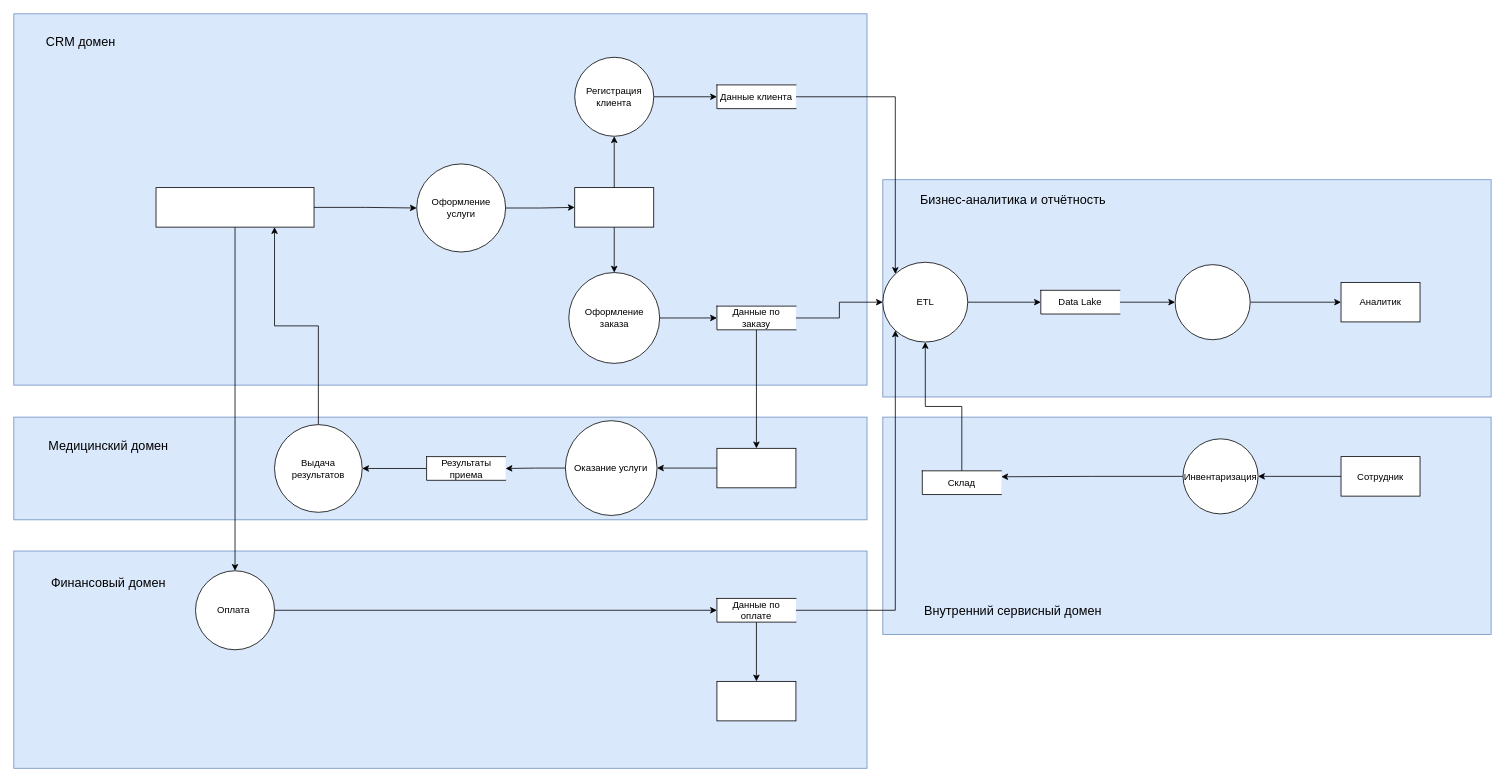
Image size: 1505x782. Some labels were removed from this diagram. The centre of each missing label's shape, as x and y in pixels:
Администратор: pixel 614 207
Бухгалтер: pixel 756 701
Врач: pixel 756 468
Клиент: pixel 234 207
Формирование отчета: pixel 1212 302
